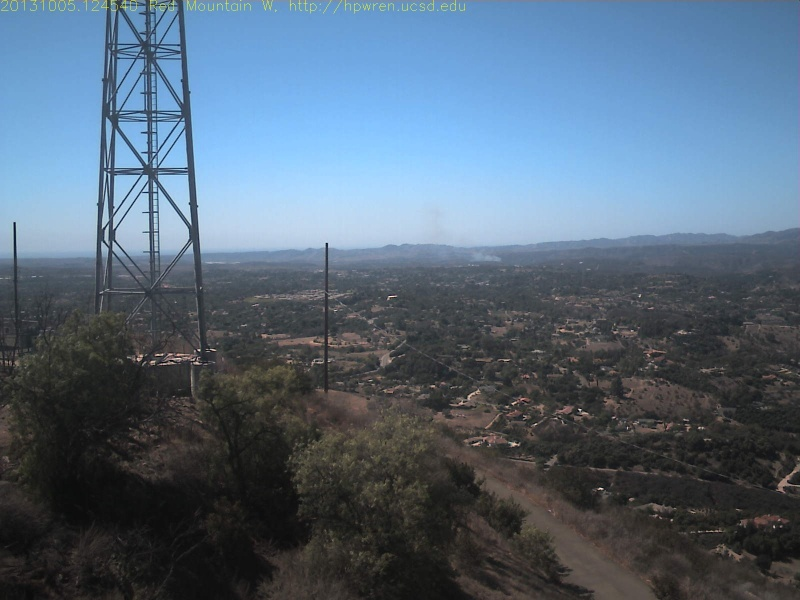smoke: (467, 248, 505, 266)
